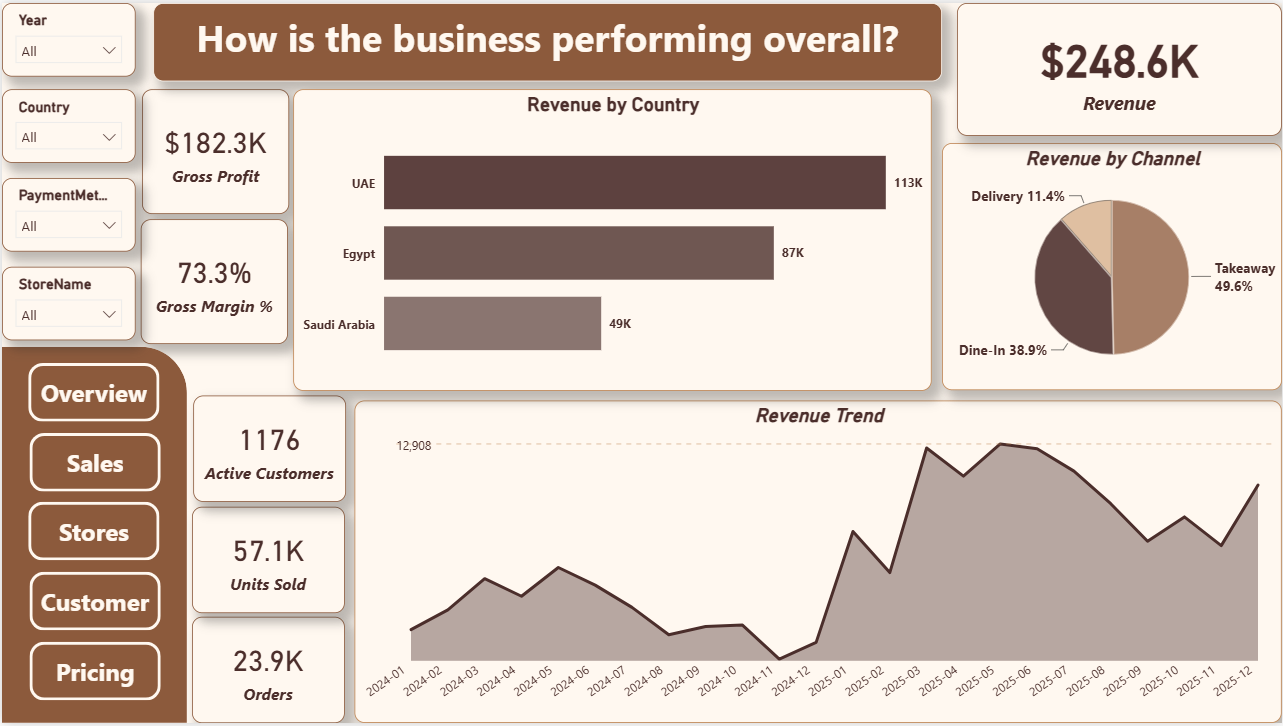

Layout of this report page (visuals, bound fields, positions):
{"tool":"powerbi","page":{"name":"Overview","canvas":[1280,720],"ordinal":0},"visuals":[{"type":"card","fields":{"Values":["_Measures.Gross Profit"]},"box":[140,86.2,147.5,125],"z":0},{"type":"card","fields":{"Values":["_Measures.Gross Margin %"]},"box":[138.8,216.2,147.5,125],"z":1000},{"type":"card","fields":{"Values":["_Measures.Orders"]},"box":[190,613.8,152.5,106.2],"z":2000},{"type":"card","fields":{"Values":["_Measures.Units Sold"]},"box":[190,503.8,152.5,106.2],"z":3000},{"type":"card","fields":{"Values":["_Measures.Active Customers"]},"box":[191.2,392.5,152.5,106.2],"z":4000},{"type":"slicer","fields":{"Values":["Calendar.Year"]},"box":[0,0,133.8,73.8],"z":5000},{"type":"textbox","box":[151.2,0,788.8,78.8],"z":6000},{"type":"shape","box":[0,343.8,185,376.2],"z":7000},{"type":"lineChart","title":"Revenue Trend","fields":{"Category":["Calendar.Year-Month"],"Y":["_Measures.Revenue"]},"box":[352.5,397.5,927.5,322.5],"z":8000},{"type":"clusteredBarChart","fields":{"Category":["Stores.Country"],"Y":["_Measures.Revenue"]},"box":[291.2,86.2,638.8,301.2],"z":9000},{"type":"pieChart","fields":{"Y":["_Measures.Revenue"],"Category":["Sales.Channel"]},"box":[940,140,340,247.5],"z":10000},{"type":"slicer","fields":{"Values":["Customers.Country"]},"box":[0,86.2,133.8,73.8],"z":11000},{"type":"slicer","fields":{"Values":["Sales.PaymentMethod"]},"box":[0,175,133.8,73.8],"z":12000},{"type":"slicer","fields":{"Values":["Stores.StoreName"]},"box":[0,263.8,133.8,73.8],"z":13000},{"type":"card","fields":{"Values":["_Measures.Revenue"]},"box":[955,0,325,132.5],"z":14000},{"type":"actionButton","title":"Revenue","box":[26.2,360,131.2,58.8],"z":15000},{"type":"actionButton","title":"Revenue","box":[26.2,498.8,131.2,58.8],"z":16000},{"type":"actionButton","title":"Revenue","box":[27.5,568.8,131.2,58.8],"z":17000},{"type":"actionButton","title":"Revenue","box":[27.5,430,131.2,58.8],"z":18000},{"type":"actionButton","title":"Revenue","box":[27.5,638.8,131.2,58.8],"z":19000}]}

Visuals, with their boxes in screenshot pixels (x1, y1, x2, y2), scaled from the page's 1280x720 canvas onto the 1283x726 screenshot:
card - _Measures.Gross Profit: (x1=140, y1=87, x2=288, y2=213)
card - _Measures.Gross Margin %: (x1=139, y1=218, x2=287, y2=344)
card - _Measures.Orders: (x1=190, y1=619, x2=343, y2=725)
card - _Measures.Units Sold: (x1=190, y1=508, x2=343, y2=615)
card - _Measures.Active Customers: (x1=192, y1=396, x2=345, y2=503)
slicer - Calendar.Year: (x1=0, y1=0, x2=134, y2=74)
textbox: (x1=152, y1=0, x2=942, y2=79)
shape: (x1=0, y1=347, x2=185, y2=725)
"Revenue Trend" lineChart: (x1=353, y1=401, x2=1282, y2=725)
clusteredBarChart - Stores.Country x _Measures.Revenue: (x1=292, y1=87, x2=932, y2=391)
pieChart - _Measures.Revenue x Sales.Channel: (x1=942, y1=141, x2=1282, y2=391)
slicer - Customers.Country: (x1=0, y1=87, x2=134, y2=161)
slicer - Sales.PaymentMethod: (x1=0, y1=176, x2=134, y2=251)
slicer - Stores.StoreName: (x1=0, y1=266, x2=134, y2=340)
card - _Measures.Revenue: (x1=957, y1=0, x2=1282, y2=134)
"Revenue" actionButton: (x1=26, y1=363, x2=158, y2=422)
"Revenue" actionButton: (x1=26, y1=503, x2=158, y2=562)
"Revenue" actionButton: (x1=28, y1=574, x2=159, y2=633)
"Revenue" actionButton: (x1=28, y1=434, x2=159, y2=493)
"Revenue" actionButton: (x1=28, y1=644, x2=159, y2=703)
